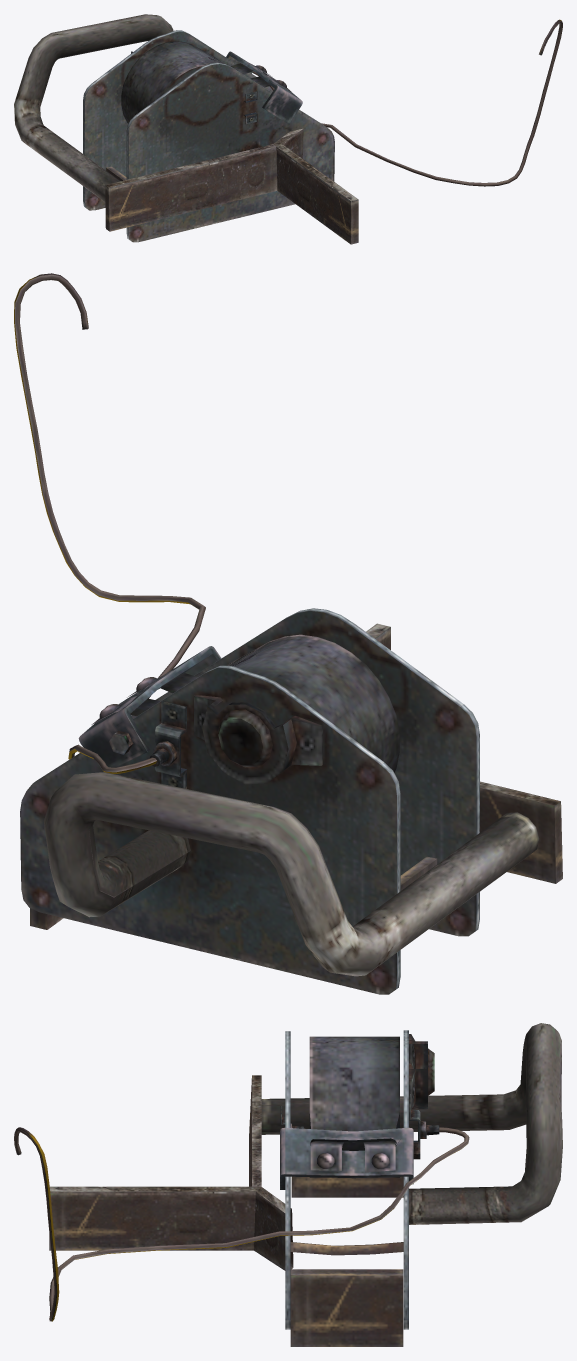
The picture shows the model from 3 angles, top to bottom: view 1: azimuth 30°, elevation 25°; view 2: azimuth 150°, elevation 25°; view 3: azimuth 270°, elevation 25°; orthographic projection. The views are drawn at different scales.
Visible parts, largest first — view 1: wpn34_gatling; view 2: wpn34_gatling; view 3: wpn34_gatling.
Boxes of the visible parts, x1,y1,x2,y2 form: wpn34_gatling: (14,14,562,244); wpn34_gatling: (14,273,562,994); wpn34_gatling: (14,1023,562,1346).
Bounding box in the file's own units: 0.4555 × 0.2581 × 0.4231.
Materials: 1 (1 with a texture image).
